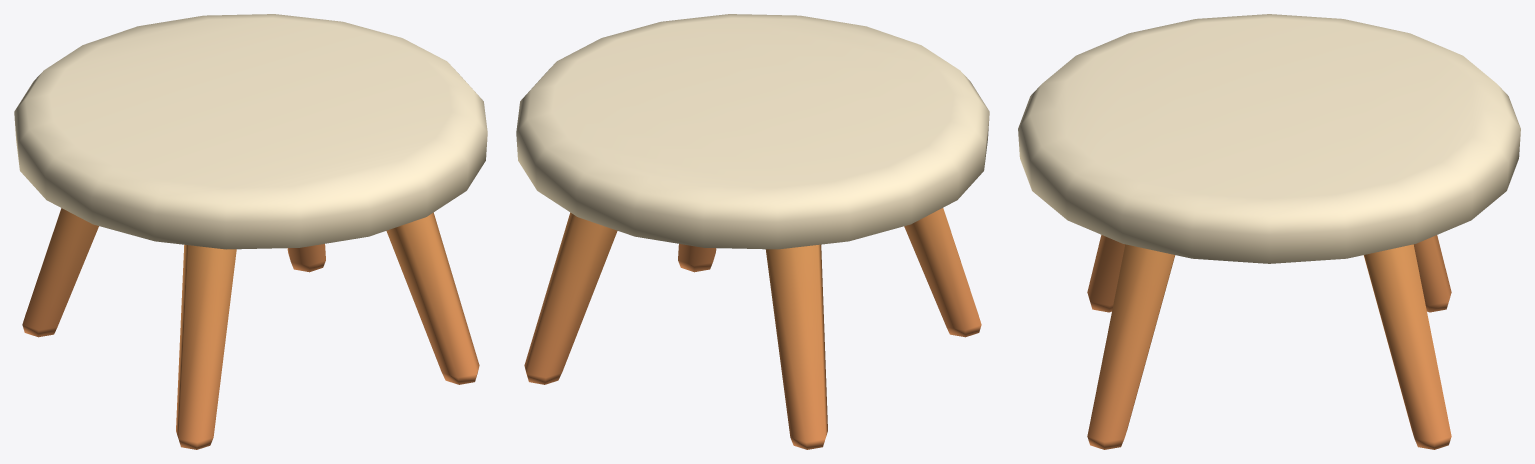
File: Furniture_Table_04.fbx
3 renders of one model, left to right at view 1: azimuth 30°, elevation 25°; view 2: azimuth 150°, elevation 25°; view 3: azimuth 270°, elevation 25°, orthographic. The views are drawn at different scales.
Parts seen in each view (by area): view 1: Furniture_Table_04; view 2: Furniture_Table_04; view 3: Furniture_Table_04.
Part boxes in pixels (x1,y1,x2,y2): Furniture_Table_04: (14, 14, 487, 449); Furniture_Table_04: (516, 14, 989, 449); Furniture_Table_04: (1018, 14, 1520, 449).
Size of the model in its own units: 150 by 88.22 by 150.
